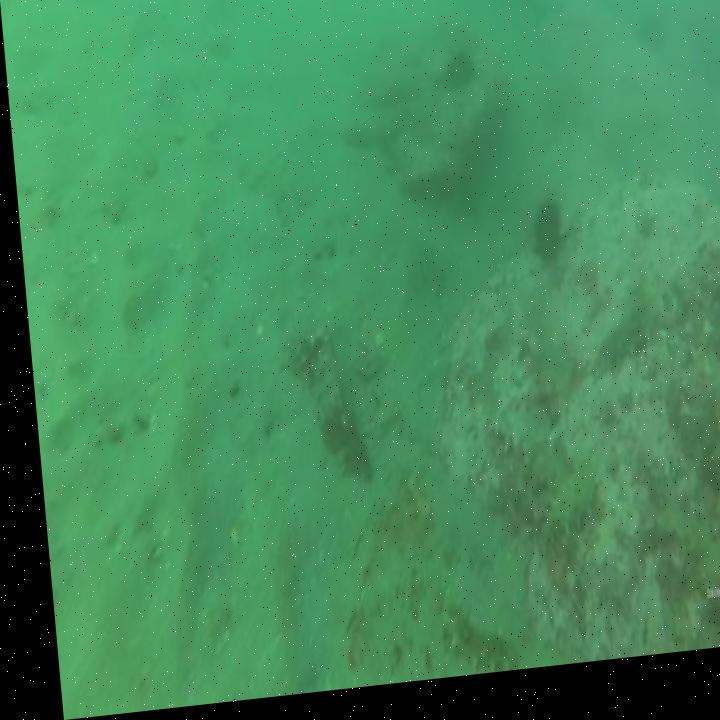echinus: (527, 205, 559, 275), (440, 57, 478, 104)
holothurian: (477, 402, 563, 507), (427, 600, 508, 687), (579, 306, 657, 391), (525, 481, 599, 557)
